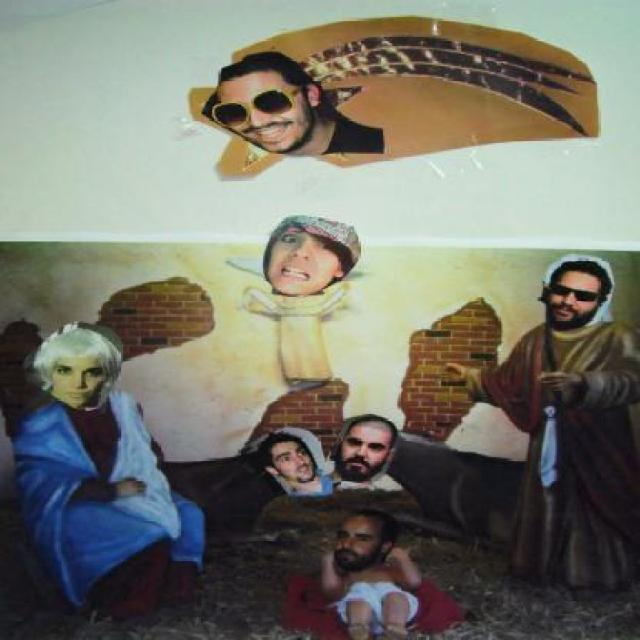face_nomask: (222, 93, 300, 149), (270, 230, 332, 285), (53, 360, 110, 406), (342, 429, 388, 473), (550, 283, 592, 325), (333, 523, 376, 563), (278, 444, 313, 478)
glasses: (203, 90, 300, 128)
head_nohelmet: (212, 58, 296, 88)
